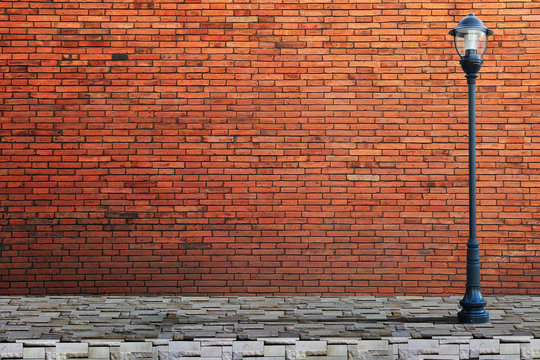Lamp: (447, 12, 497, 322)
Wall: (213, 15, 437, 294), (15, 19, 203, 294)
